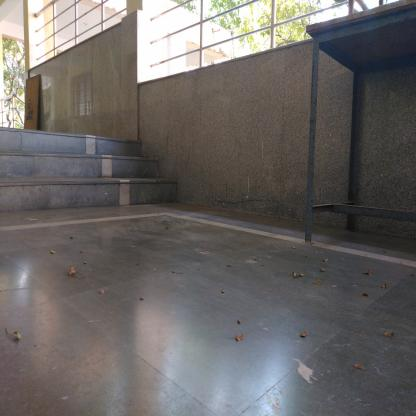stairs: (6, 129, 143, 210)
